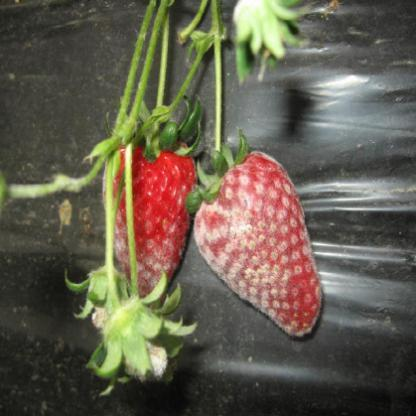Strawberry_Powdery_Mildew_Fruit: (191, 151, 324, 337), (102, 126, 200, 312)
